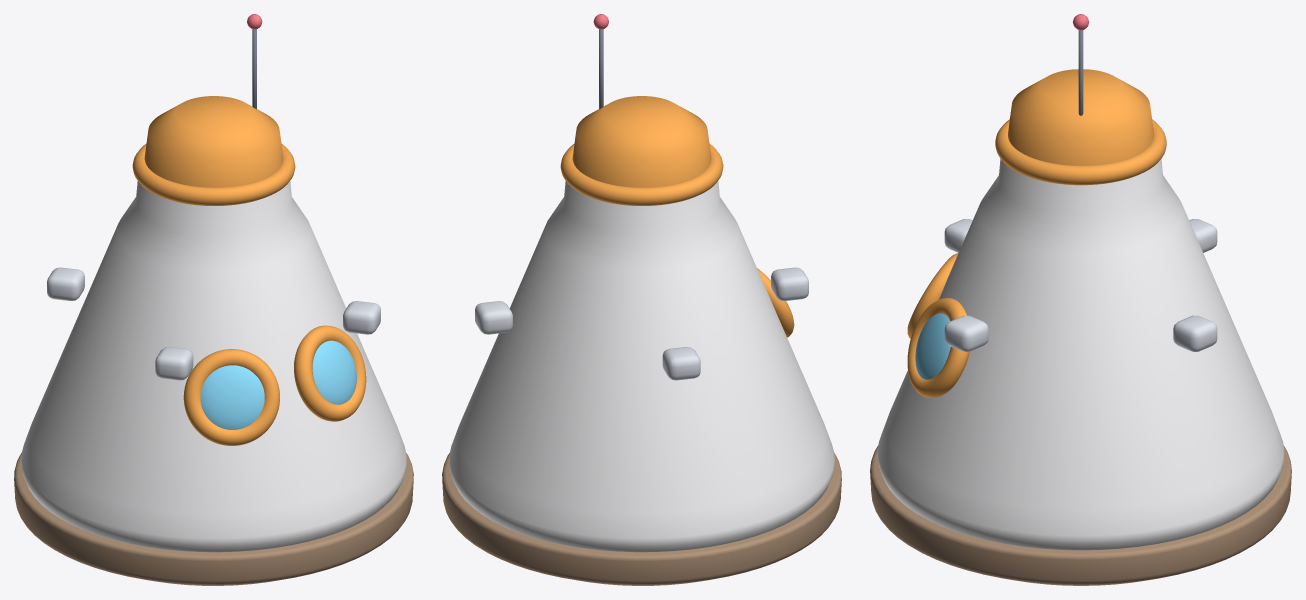
3 views of the same model, side by side, from view 1: azimuth 30°, elevation 25°; view 2: azimuth 150°, elevation 25°; view 3: azimuth 270°, elevation 25° (orthographic). The views are drawn at different scales.
Visible parts, largest first — view 1: Capsule; view 2: Capsule; view 3: Capsule.
Part boxes in pixels (x1=…): Capsule: x1=14, y1=14, x2=413, y2=585; Capsule: x1=442, y1=14, x2=841, y2=585; Capsule: x1=870, y1=14, x2=1291, y2=585.
Size of the model in its own units: 2.56 by 3.5 by 2.56.
